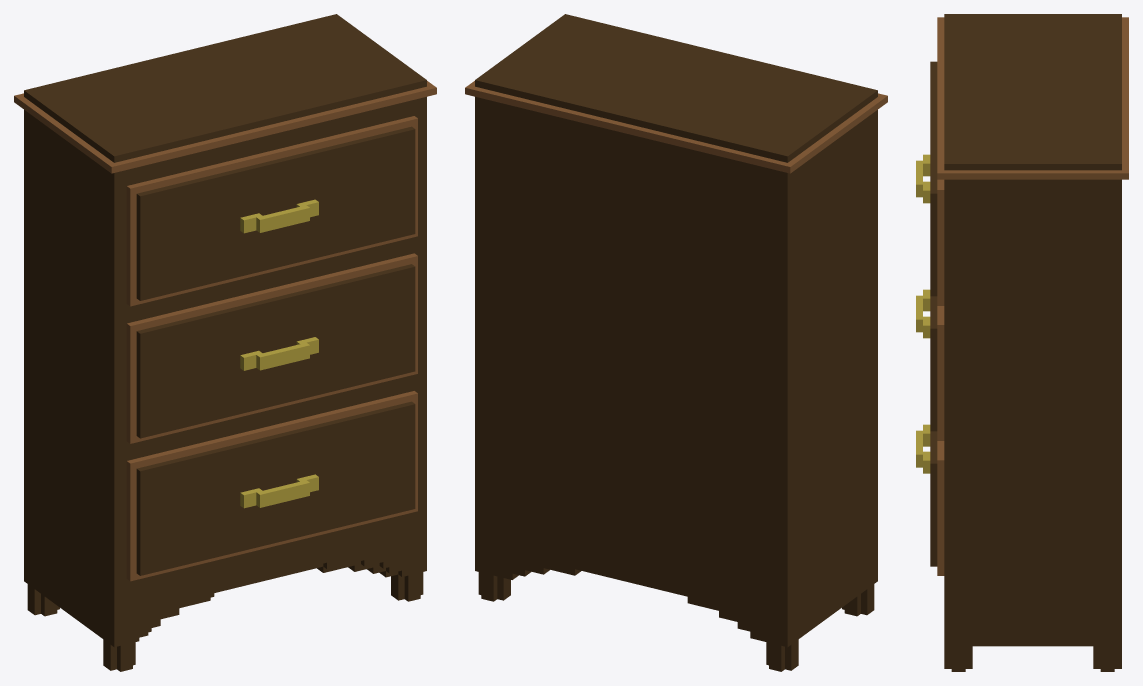
File: Dresser.obj
3 renders of one model, left to right at view 1: azimuth 30°, elevation 25°; view 2: azimuth 150°, elevation 25°; view 3: azimuth 270°, elevation 25°, orthographic.
Parts seen in each view (by area): view 1: Dresser; view 2: Dresser; view 3: Dresser.
Boxes of the visible parts, box(x1,y1,x2,y2) form: Dresser: box(14, 14, 436, 671); Dresser: box(465, 14, 887, 671); Dresser: box(916, 14, 1128, 671).
Size of the model in its own units: 52 by 79 by 30.
1 material, 1 textured.
